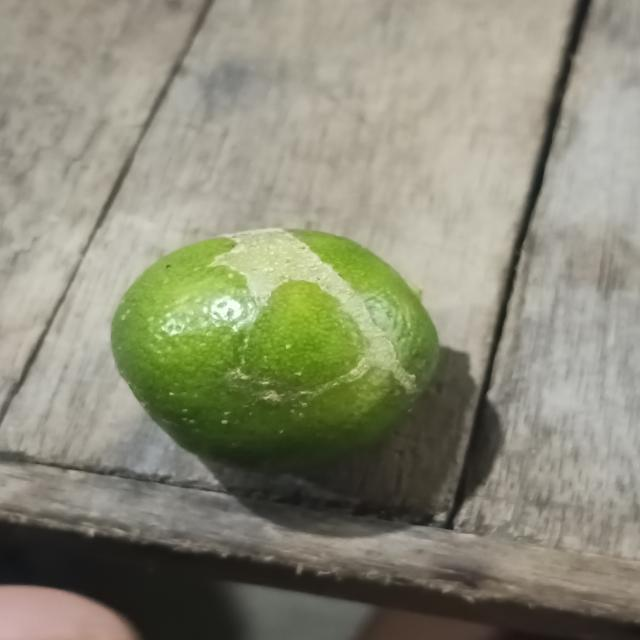thrips: (105, 222, 448, 475)
